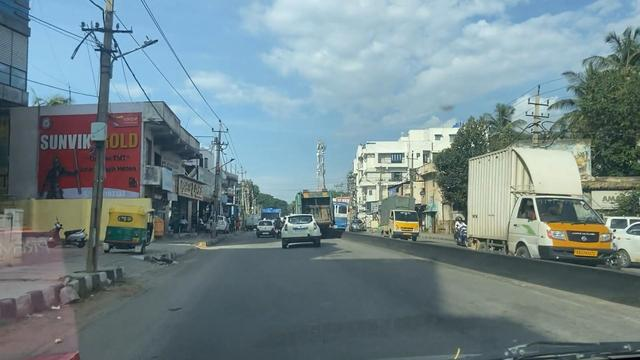LMV: (280, 215, 321, 245)
